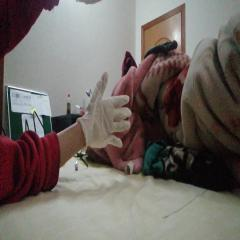gloved: (78, 72, 132, 147)
